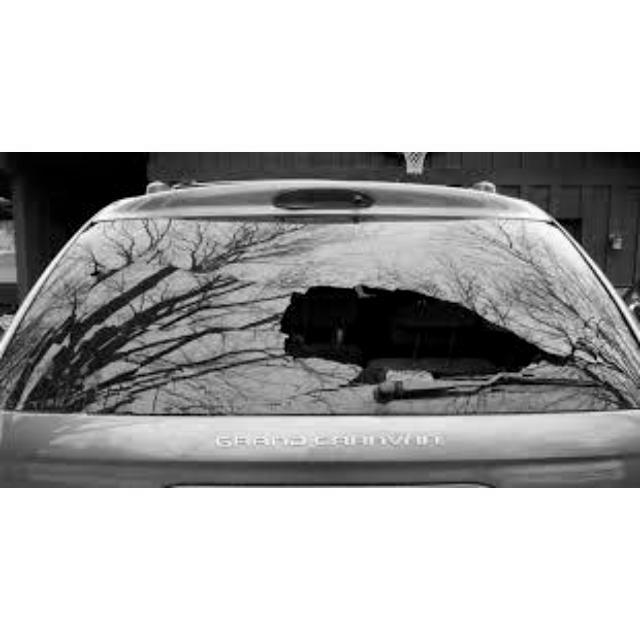Rear-windscreen-Damage: (13, 204, 638, 466)
